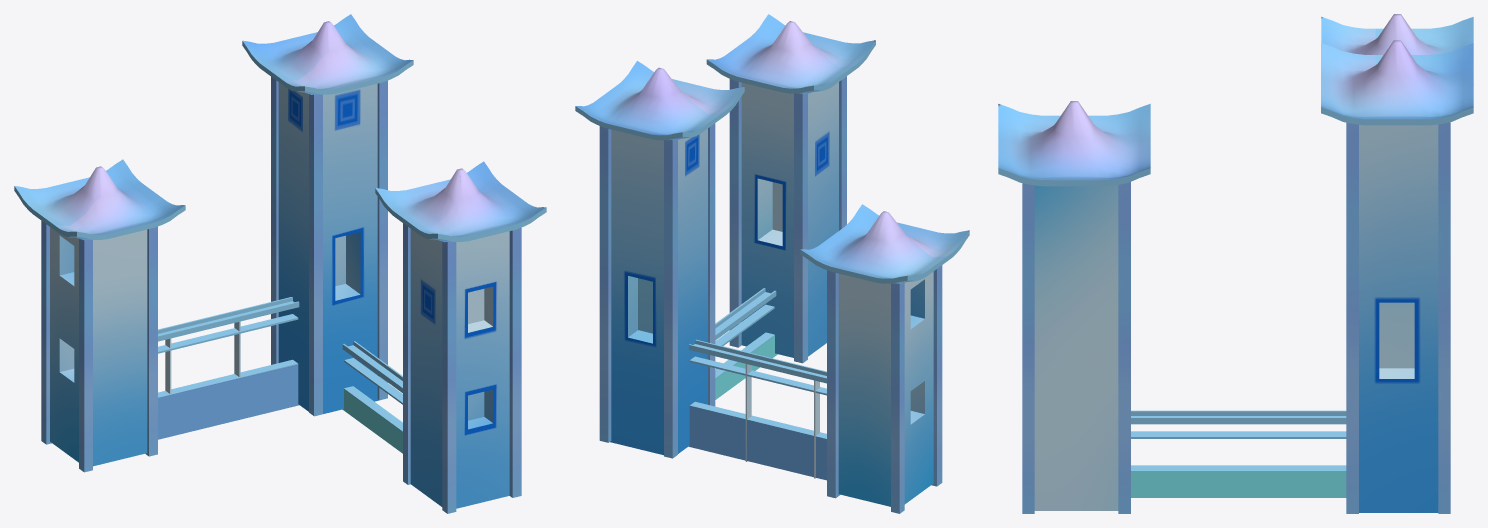
The model's file is V2_Tower2 (2).FBX.
3 renders of one model, left to right at view 1: azimuth 30°, elevation 25°; view 2: azimuth 150°, elevation 25°; view 3: azimuth 270°, elevation 25°, orthographic. The views are drawn at different scales.
Visible parts, largest first — view 1: Box100; view 2: Box100; view 3: Box100.
Part boxes in pixels (x1=…): Box100: x1=14, y1=14, x2=546, y2=513; Box100: x1=575, y1=14, x2=969, y2=513; Box100: x1=998, y1=14, x2=1473, y2=513.
Size of the model in its own units: 20.96 by 22.21 by 21.1.
1 material, 1 textured.
